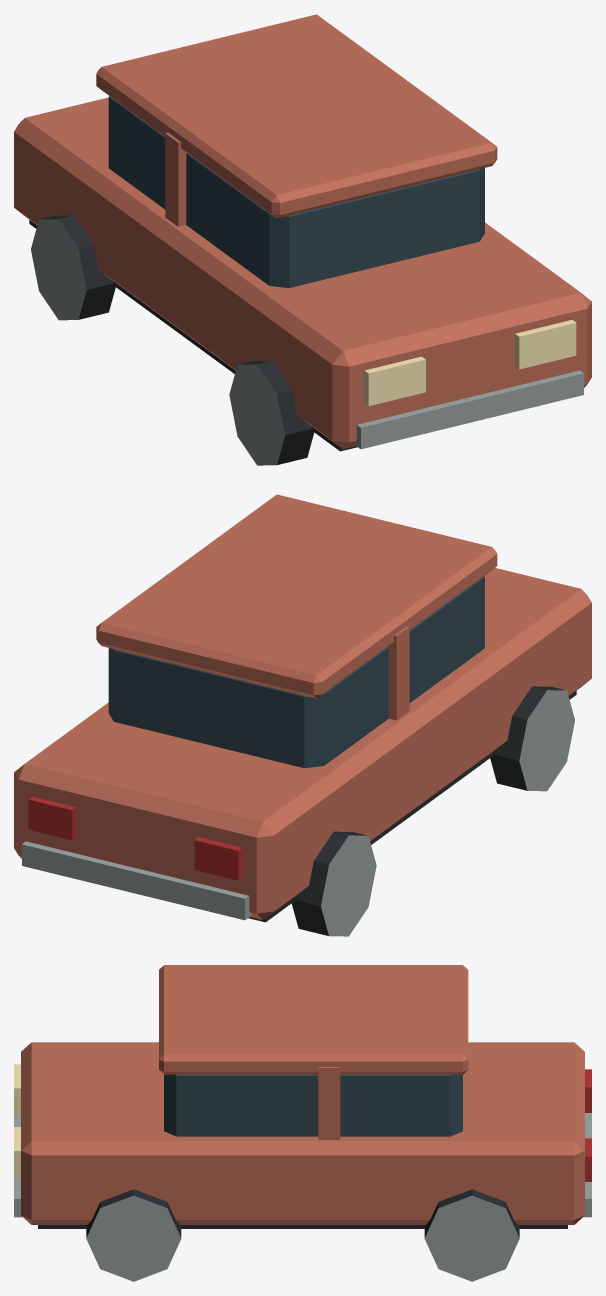
The model's file is VEH_SEDAN_CORAL.glb.
3 views of the same model, one above another, from view 1: azimuth 30°, elevation 25°; view 2: azimuth 150°, elevation 25°; view 3: azimuth 270°, elevation 25° (orthographic). The views are drawn at different scales.
Visible parts, largest first — view 1: Body, Wheel_RL, Wheel_FL; view 2: Body, Wheel_RL, Wheel_FL; view 3: Body, Wheel_FR, Wheel_RR.
Boxes of the visible parts, <box> form: Body: <box>14,14,591,451</box>; Wheel_RL: <box>31,215,115,320</box>; Wheel_FL: <box>229,360,314,465</box>; Body: <box>14,494,591,922</box>; Wheel_RL: <box>291,831,376,936</box>; Wheel_FL: <box>490,686,574,791</box>; Body: <box>14,965,591,1228</box>; Wheel_FR: <box>86,1189,181,1281</box>; Wheel_RR: <box>424,1189,519,1281</box>.
Size of the model in its own units: 0.324 by 0.265 by 0.656.
